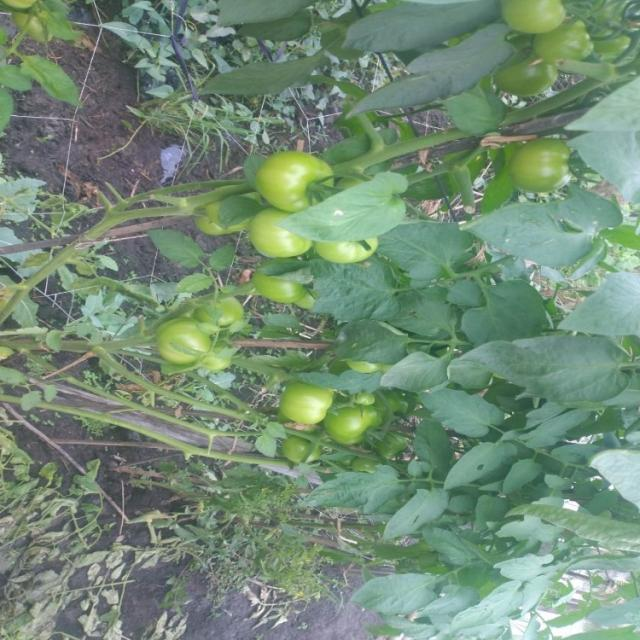tomato: (252, 147, 364, 216), (503, 132, 588, 202), (228, 200, 304, 270), (537, 14, 615, 80), (491, 49, 568, 112), (267, 372, 337, 434), (151, 312, 217, 371), (315, 227, 386, 281), (243, 256, 315, 309), (325, 389, 381, 448), (496, 1, 578, 39), (194, 294, 259, 334), (279, 433, 335, 467)
